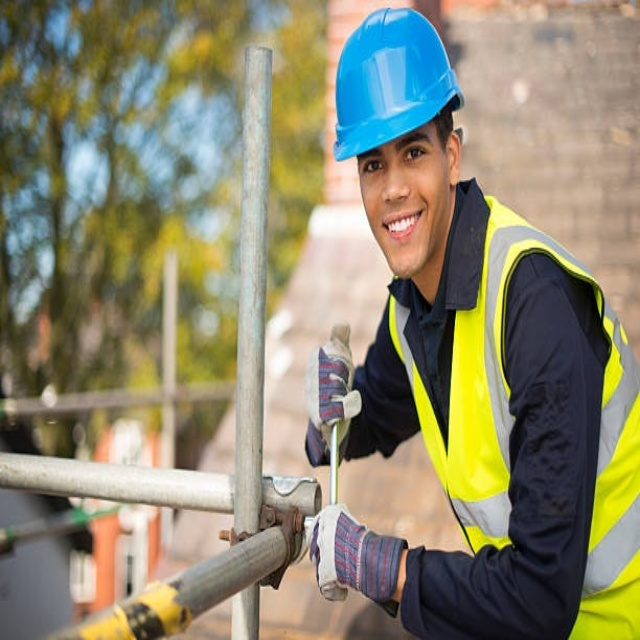Guantes: (308, 501, 405, 610), (303, 326, 361, 467)
Sin_gafas: (359, 129, 435, 188)
Sin_mascara: (372, 201, 431, 259)
